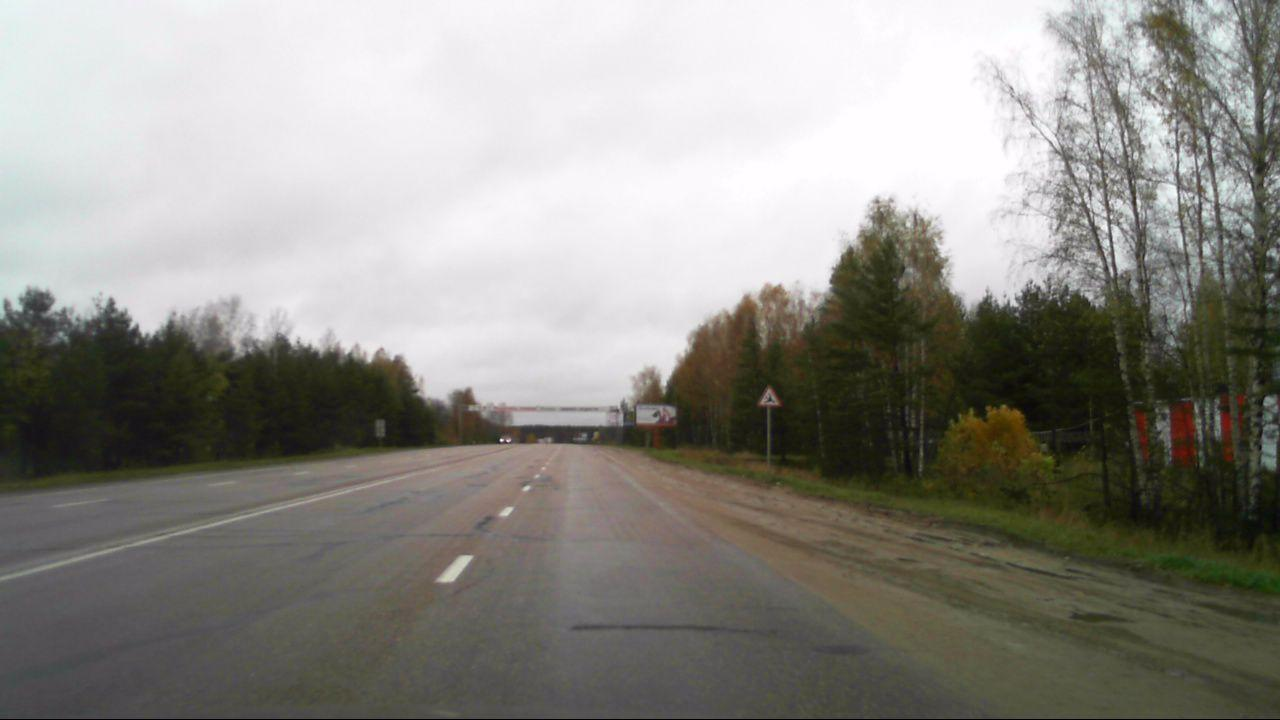1_30: (756, 383, 782, 410)
